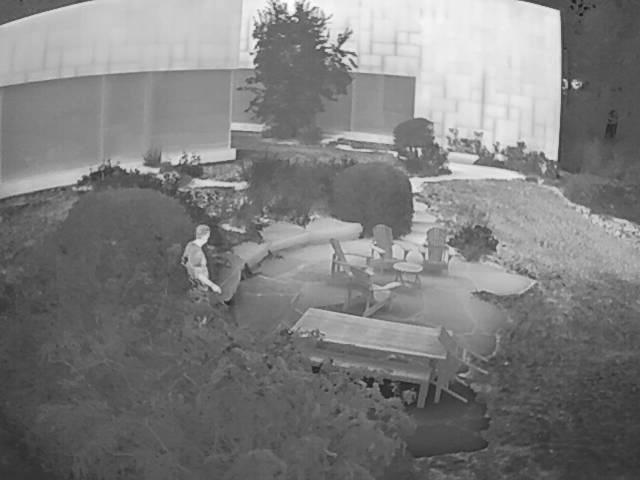person: (182, 226, 220, 322)
